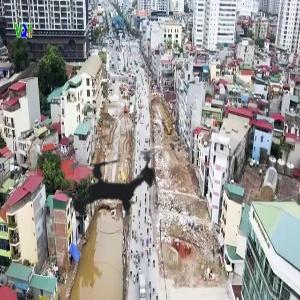drone: (31, 111, 188, 268)
